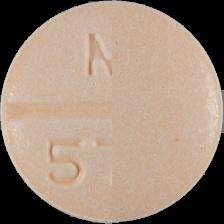54868-0667: (0, 0, 224, 224)
